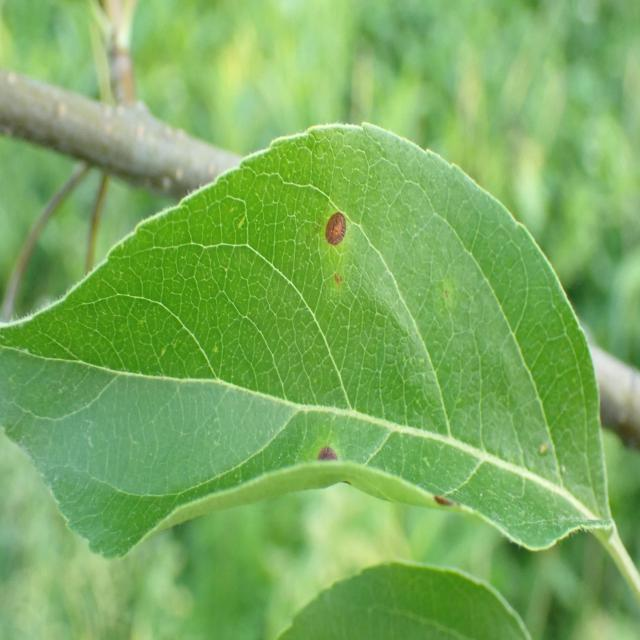Black Rot: (312, 204, 356, 269), (315, 430, 353, 498), (429, 474, 473, 520)
